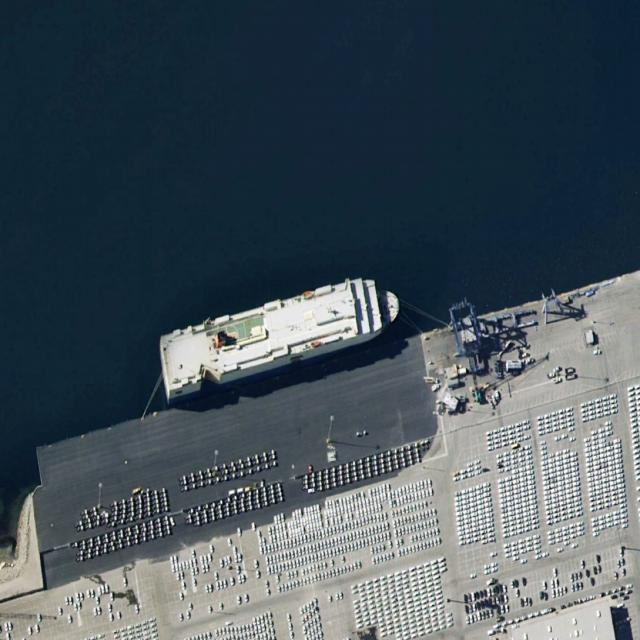RoRo: (156, 266, 404, 399)
